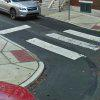Crosswalk: (24, 22, 100, 67)
